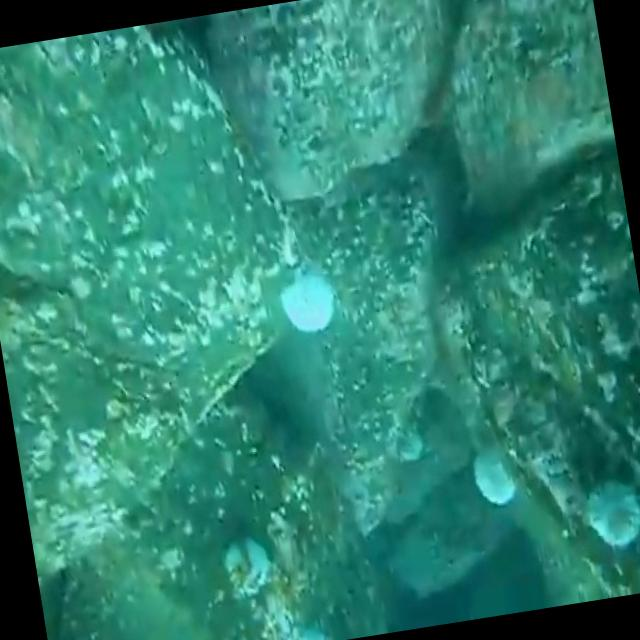Deniz Kestanesi: (570, 464, 640, 556), (267, 258, 342, 342), (458, 432, 518, 516)
